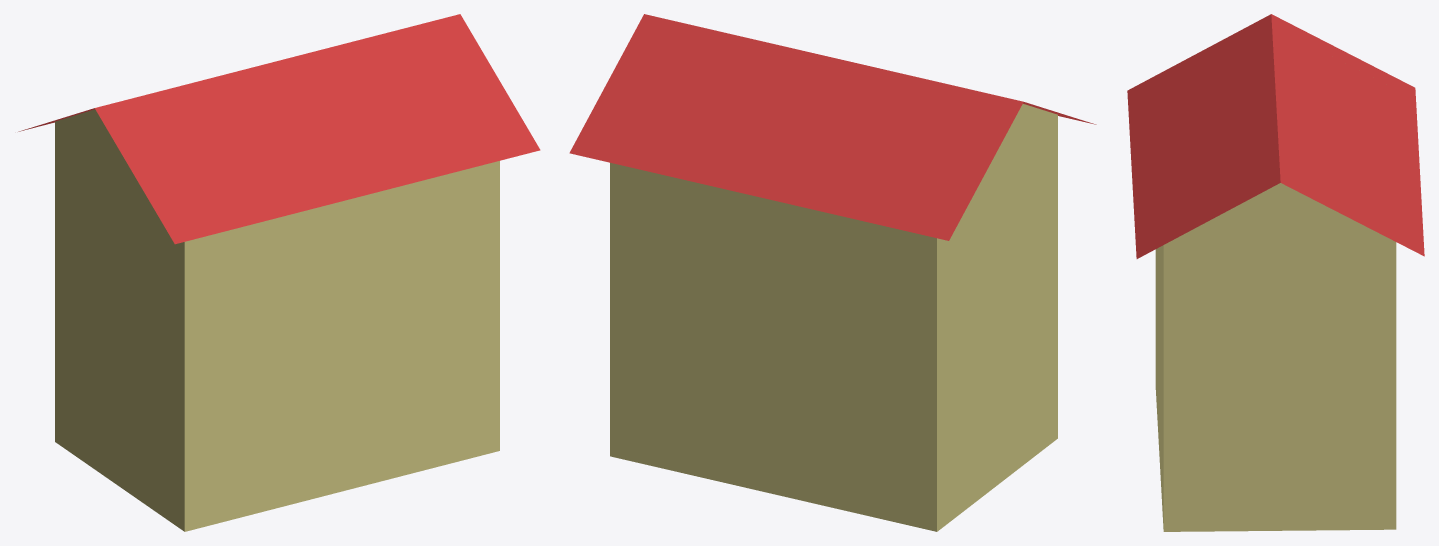
The picture shows the model from 3 angles, left to right: view 1: azimuth 30°, elevation 25°; view 2: azimuth 150°, elevation 25°; view 3: azimuth 270°, elevation 25°; orthographic projection. The views are drawn at different scales.
Size of the model in its own units: 7.35 by 5.38 by 7.18.
